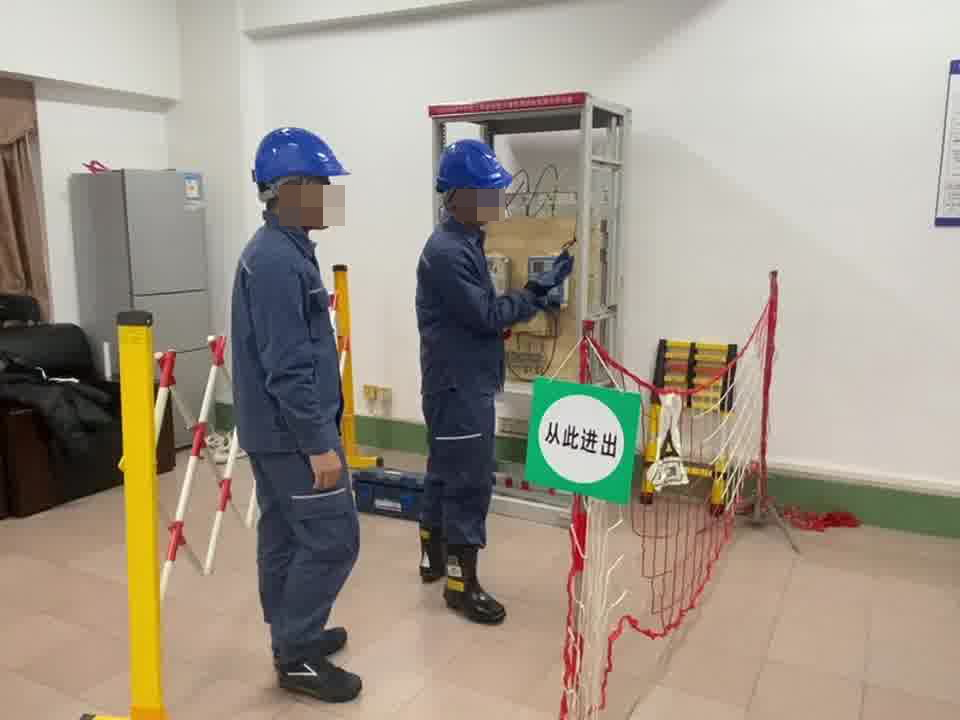downsuit: (248, 452, 360, 658), (418, 398, 499, 553)
glove: (523, 249, 573, 290)
halt: (252, 126, 350, 230), (433, 137, 516, 226)
hand: (309, 447, 341, 489)
inear: (277, 177, 313, 218), (440, 185, 473, 214)
intosign: (527, 377, 644, 507)
person: (215, 125, 373, 693), (405, 135, 574, 632)
shoe: (437, 539, 509, 622), (407, 522, 445, 581)
upsuit: (230, 224, 349, 451), (414, 222, 562, 398)
